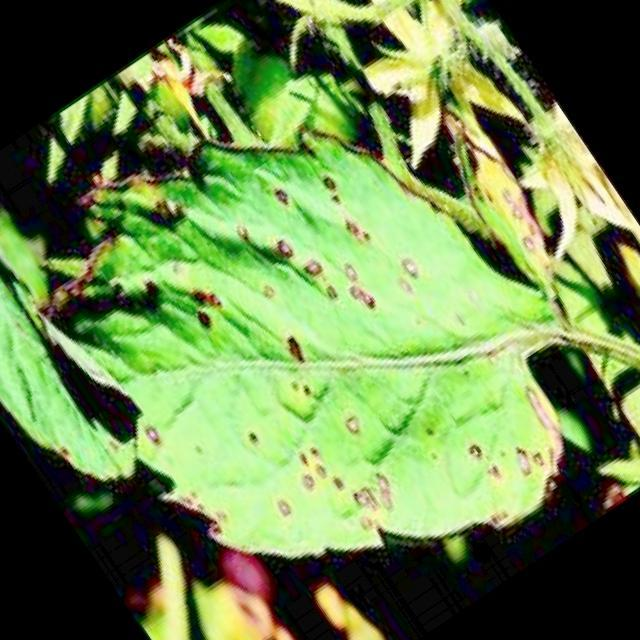Tomato bacterial spot leaf: (11, 44, 634, 640)
